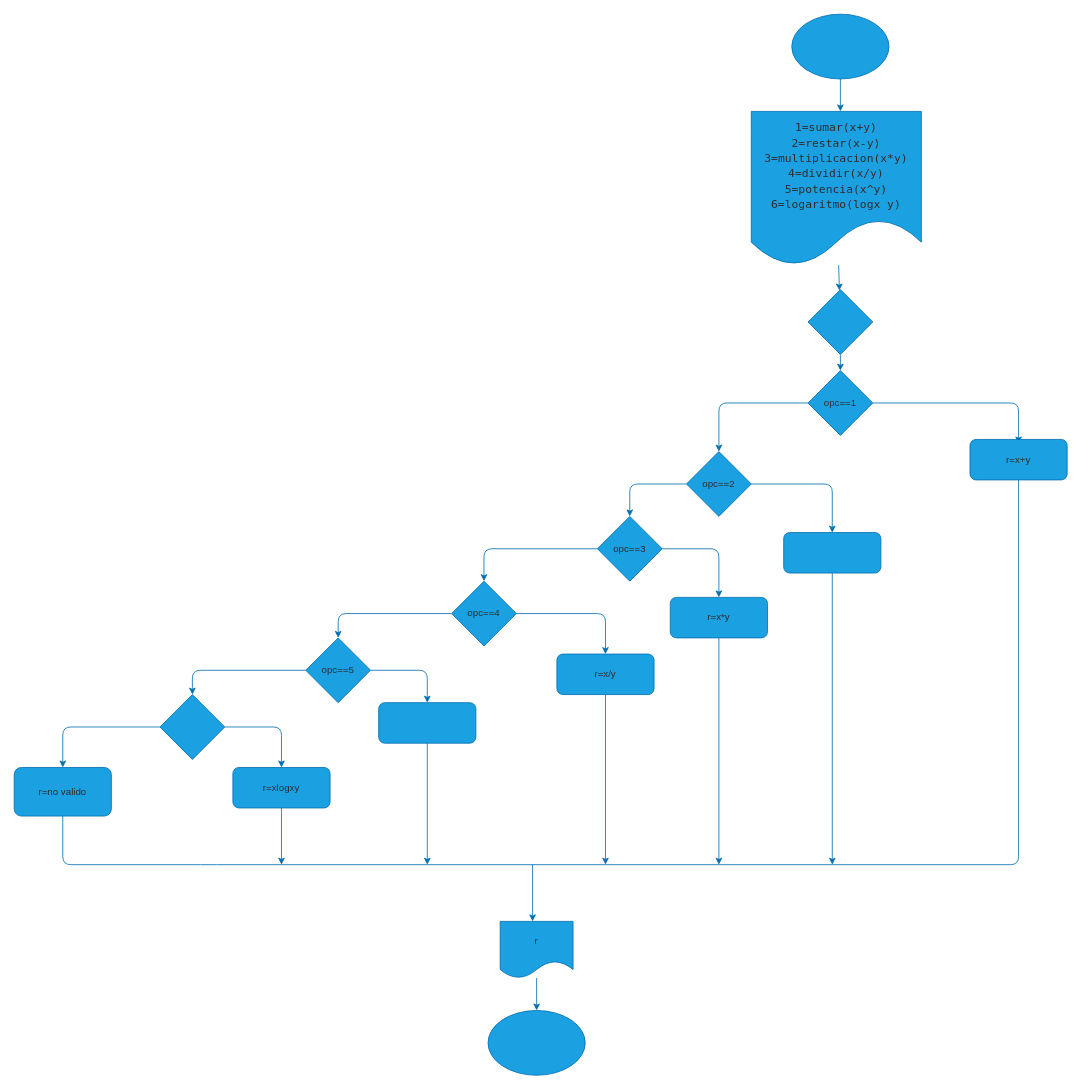
This 1081x1089 diagram has some shape labels left out. The shapes that lost their labels are listed below. From the top down, each one's box as (x1, y1, x2, y2) in pixels, then its label:
(791, 13, 889, 79): inicio
(807, 289, 873, 354): x,y
(783, 532, 881, 573): r=x-y
(159, 694, 225, 759): opc==6
(378, 702, 476, 743): r=x ^ y
(487, 1010, 585, 1075): fin
